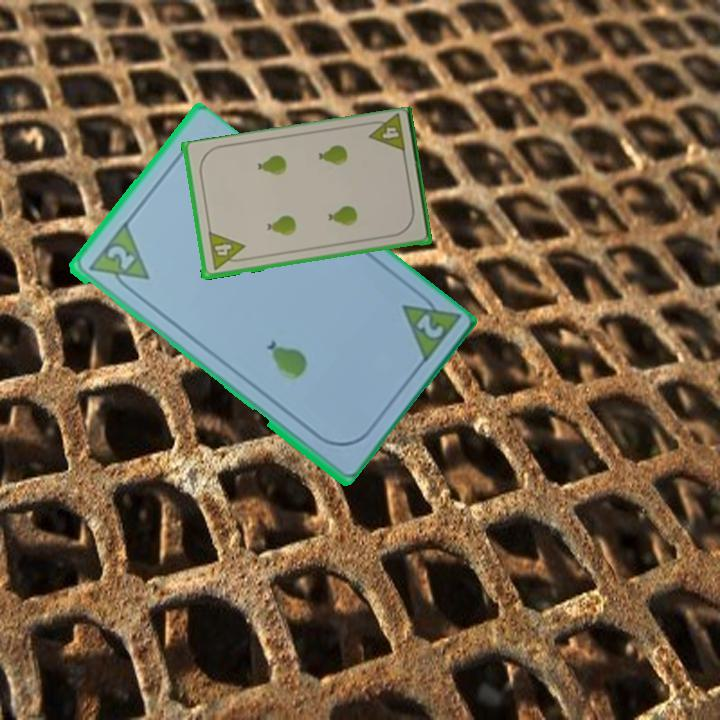2p: (412, 310, 446, 342), (102, 242, 137, 273)
4p: (363, 112, 408, 157), (205, 229, 248, 274)
